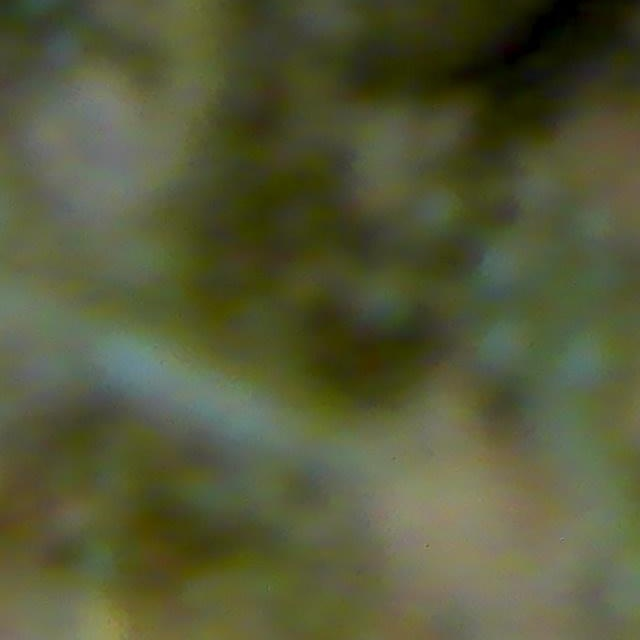SeaGrape: (471, 224, 563, 309), (347, 259, 427, 336), (543, 323, 621, 398), (469, 306, 544, 380), (403, 177, 471, 246)
